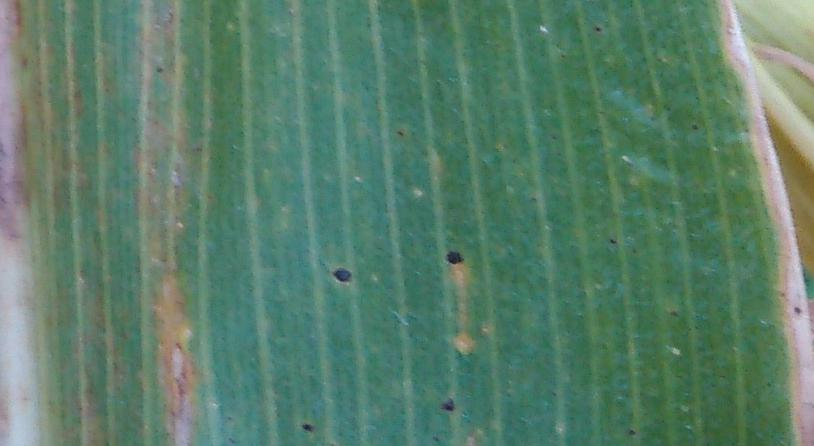tarspot: (330, 266, 354, 286), (443, 249, 464, 268), (439, 394, 456, 412), (299, 422, 316, 435), (626, 427, 636, 437), (668, 310, 680, 318), (793, 304, 801, 315), (228, 436, 237, 445), (395, 128, 405, 136), (594, 23, 602, 33), (432, 435, 442, 443), (690, 123, 699, 131), (156, 65, 164, 73), (549, 390, 558, 397), (765, 380, 772, 388), (608, 238, 617, 244), (529, 196, 538, 202), (227, 415, 233, 421)
